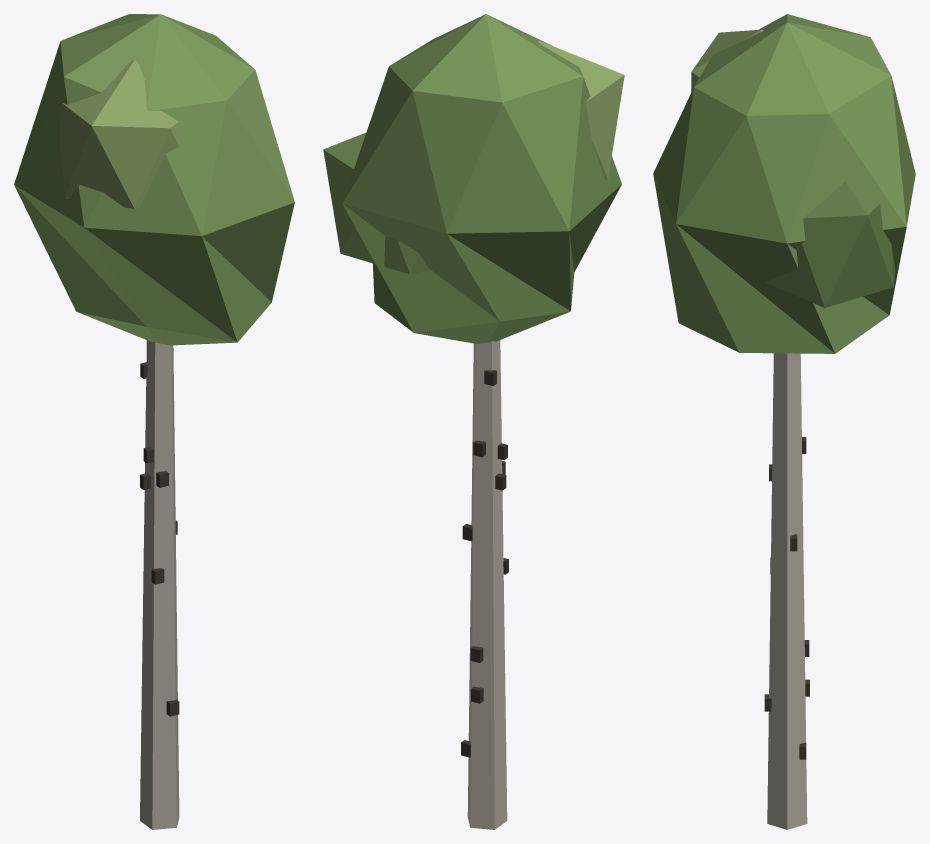
File: tree_birch.glb
3 renders of one model, left to right at view 1: azimuth 30°, elevation 25°; view 2: azimuth 150°, elevation 25°; view 3: azimuth 270°, elevation 25°, orthographic.
Visible parts, largest first — view 1: tree_birch_Crown, tree_birch; view 2: tree_birch_Crown, tree_birch; view 3: tree_birch_Crown, tree_birch.
Part boxes in pixels (bbox=[...]): tree_birch_Crown: bbox=[14, 14, 294, 345]; tree_birch: bbox=[140, 340, 179, 829]; tree_birch_Crown: bbox=[323, 14, 624, 343]; tree_birch: bbox=[461, 340, 508, 829]; tree_birch_Crown: bbox=[653, 14, 915, 353]; tree_birch: bbox=[764, 353, 809, 829].
Bounding box in the file's own units: 1.2 × 3.78 × 1.13.
